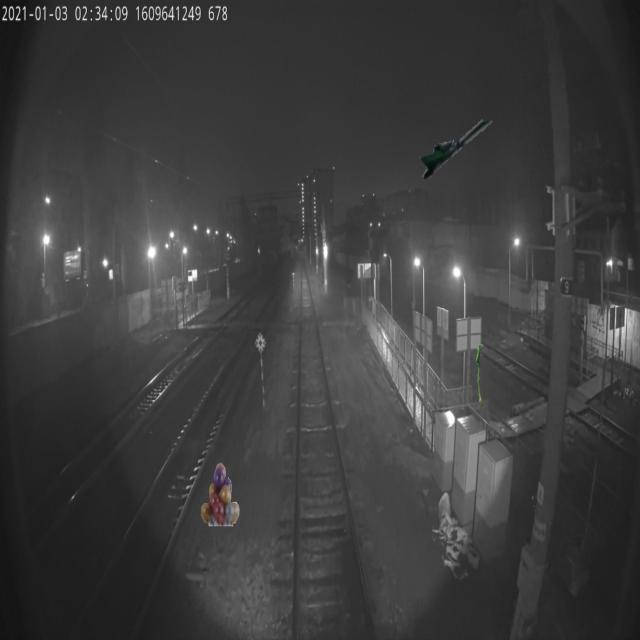balloon: (200, 462, 240, 526)
floating object: (418, 116, 495, 180), (476, 343, 482, 407)
